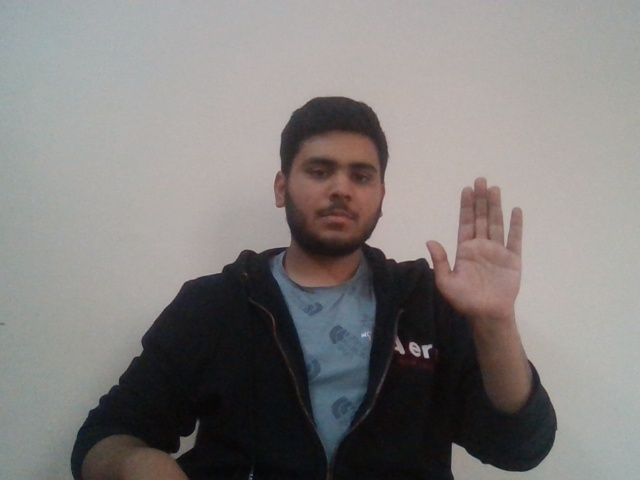Hello: (417, 181, 545, 311)
